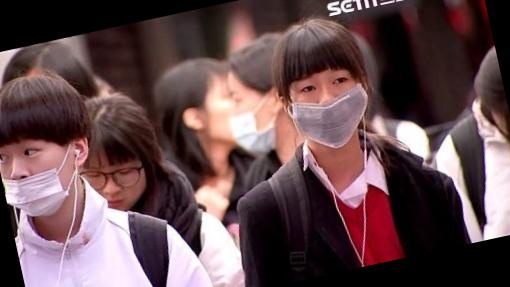with_mask: (285, 67, 379, 160), (219, 81, 281, 164)
without_mask: (77, 152, 153, 222)
